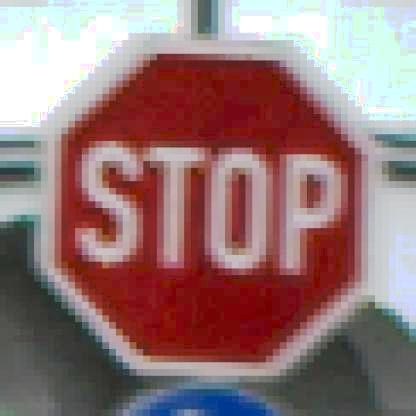Stop Sign: (43, 34, 383, 383)
